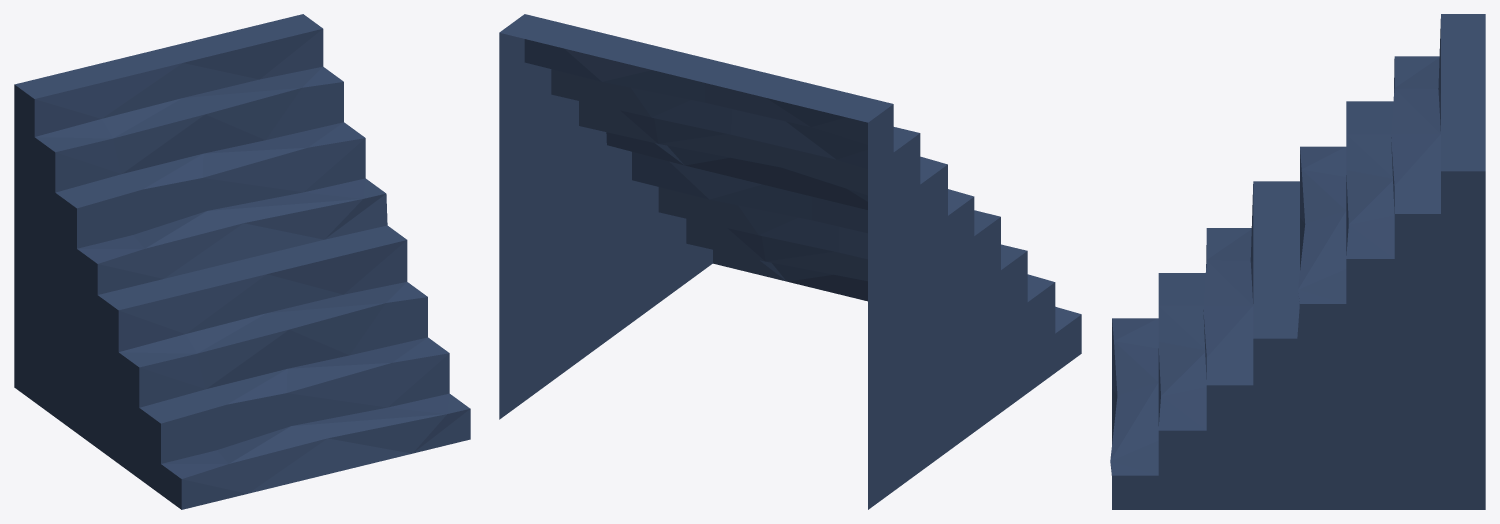
Rendered from prop_castlestair.FBX.
3 views of the same model, side by side, from view 1: azimuth 30°, elevation 25°; view 2: azimuth 150°, elevation 25°; view 3: azimuth 270°, elevation 25° (orthographic). The views are drawn at different scales.
Parts seen in each view (by area): view 1: Object019; view 2: Object019; view 3: Object019.
Part boxes in pixels (x1,y1,x2,y2): Object019: (14,14,470,509); Object019: (499,14,1081,509); Object019: (1110,14,1485,509).
Bounding box in the file's own units: 7.98 × 8 × 8.04.
